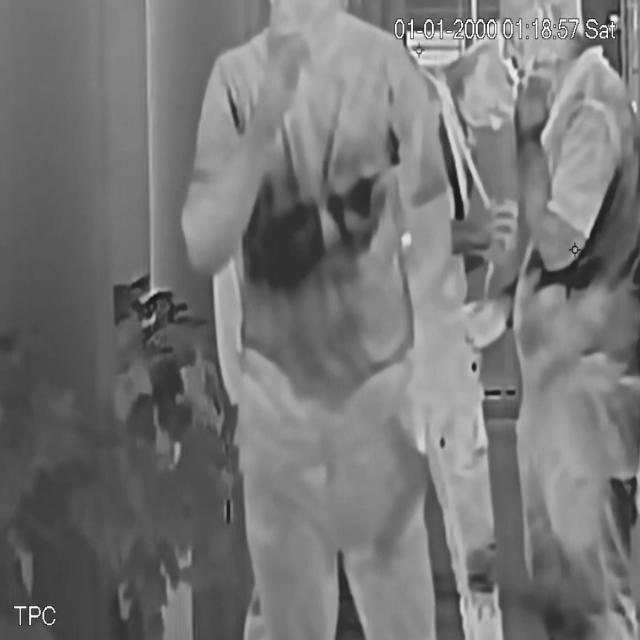Weapon: (373, 418, 435, 574)
